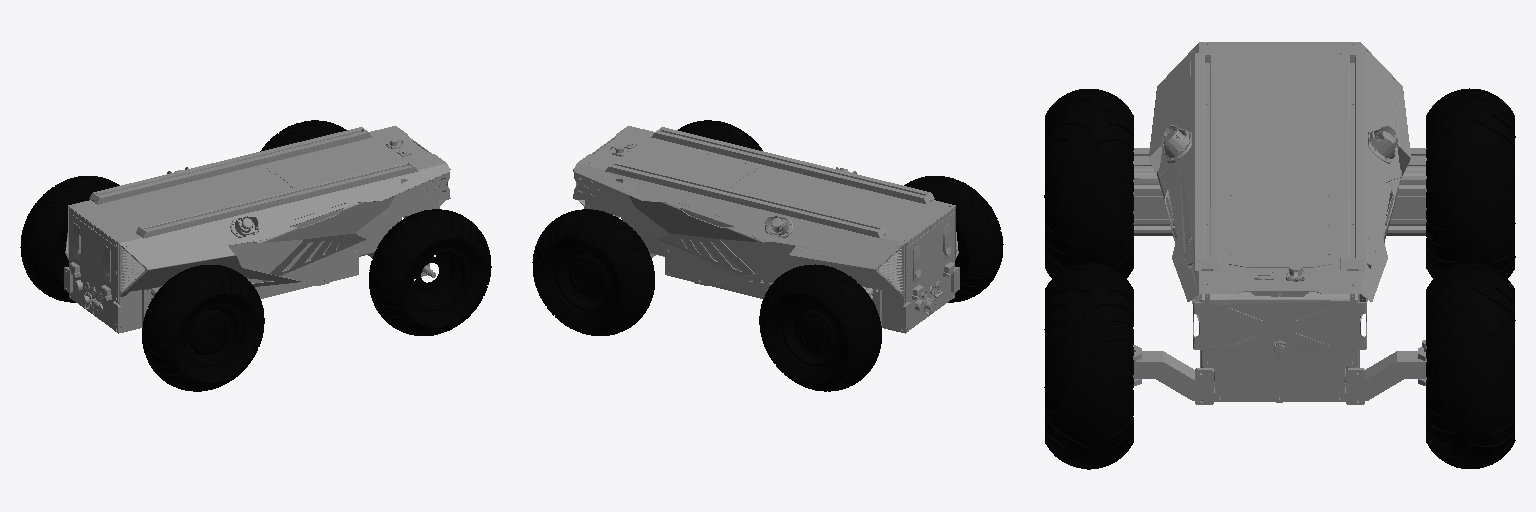
robot.urdf — hunter:
<?xml version="1.0" ?>
<robot name="hunter">

  <!-- ===== Base and Chassis ===== -->
  <link name="base_link"/>
  <joint name="chassis_joint" type="fixed">
    <parent link="base_link"/>
    <child link="chassis"/>
    <origin rpy="0 0 0" xyz="0 0 0.37"/>
  </joint>

  <link name="chassis">
    <visual>
      <geometry>
        <mesh filename="package://hunter_model/meshes/chassis.dae"/>
      </geometry>
      <material name="body_gray">
        <color rgba="0.6 0.6 0.6 1.0"/>
      </material>
    </visual>
    <collision>
      <geometry>
        <mesh filename="package://hunter_model/meshes/chassis.dae"/>
      </geometry>
    </collision>
    <inertial>
      <origin xyz="0 0 0"/>
      <mass value="80"/>
      <inertia ixx="2.0" ixy="0" ixz="0" iyy="2.0" iyz="0" izz="2.0"/>
    </inertial>
  </link>

  <!-- ===== Rear Wheels ===== -->
  <link name="rear_left_wheel">
    <visual>
      <geometry>
        <mesh filename="package://hunter_model/meshes/rear_left_wheel.dae"/>
      </geometry>
      <material name="black_wheel">
        <color rgba="0.05 0.05 0.05 1.0"/>
      </material>
    </visual>
    <collision>
      <geometry>
        <mesh filename="package://hunter_model/meshes/rear_left_wheel.dae"/>
      </geometry>
    </collision>
    <inertial><mass value="7"/><inertia ixx="0.06" iyy="0.06" izz="0.11"/></inertial>
  </link>

  <joint name="rear_left_wheel_joint" type="continuous">
    <parent link="chassis"/>
    <child link="rear_left_wheel"/>
    <origin rpy="1.5708 0 0" xyz="-0.28 0.2925 -0.19558"/>
    <axis xyz="0 0 -1"/>
    <dynamics damping="0.1" friction="2.0"/>
    <limit effort="50.0" velocity="50.0"/>
  </joint>

  <link name="rear_right_wheel">
    <visual>
      <geometry>
        <mesh filename="package://hunter_model/meshes/rear_right_wheel.dae"/>
      </geometry>
      <material name="black_wheel">
        <color rgba="0.05 0.05 0.05 1.0"/>
      </material>
    </visual>
    <collision>
      <geometry>
        <mesh filename="package://hunter_model/meshes/rear_right_wheel.dae"/>
      </geometry>
    </collision>
    <inertial><mass value="7"/><inertia ixx="0.06" iyy="0.06" izz="0.11"/></inertial>
  </link>

  <joint name="rear_right_wheel_joint" type="continuous">
    <parent link="chassis"/>
    <child link="rear_right_wheel"/>
    <origin rpy="1.5708 0 0" xyz="-0.28 -0.2925 -0.19558"/>
    <axis xyz="0 0 -1"/>
    <dynamics damping="0.1" friction="2.0"/>
    <limit effort="50.0" velocity="50.0"/>
  </joint>

  <!-- ===== Front Steering + Wheels ===== -->
  <link name="front_left_steering_link">
    <inertial><mass value="0.01"/><inertia ixx="0.01" iyy="0.01" izz="0.01"/></inertial>
  </link>

  <joint name="front_left_steering_joint" type="continuous">
    <parent link="chassis"/>
    <child link="front_left_steering_link"/>
    <origin rpy="1.5708 0 0" xyz="0.37142 0.2925 -0.19558"/>
    <axis xyz="0 1 0"/>
    <limit effort="20.0" velocity="5.0"/>
    <dynamics damping="0.1" friction="0.2"/>
  </joint>

  <link name="front_left_wheel">
    <visual>
      <geometry>
        <mesh filename="package://hunter_model/meshes/front_left_wheel.dae"/>
      </geometry>
      <material name="black_wheel">
        <color rgba="0.05 0.05 0.05 1.0"/>
      </material>
    </visual>
    <collision>
      <geometry>
        <mesh filename="package://hunter_model/meshes/front_left_wheel.dae"/>
      </geometry>
    </collision>
    <inertial><mass value="7"/><inertia ixx="0.06" iyy="0.06" izz="0.11"/></inertial>
  </link>

  <joint name="front_left_wheel_joint" type="continuous">
    <parent link="front_left_steering_link"/>
    <child link="front_left_wheel"/>
    <origin rpy="0 0 0" xyz="0 0 0"/>
    <axis xyz="0 0 -1"/>
    <limit effort="50.0" velocity="50.0"/>
  </joint>

  <link name="front_right_steering_link">
    <inertial><mass value="0.01"/><inertia ixx="0.01" iyy="0.01" izz="0.01"/></inertial>
  </link>

  <joint name="front_right_steering_joint" type="continuous">
    <parent link="chassis"/>
    <child link="front_right_steering_link"/>
    <origin rpy="1.5708 0 0" xyz="0.37142 -0.2925 -0.19558"/>
    <axis xyz="0 1 0"/>
    <limit effort="20.0" velocity="5.0"/>
    <dynamics damping="0.1" friction="0.2"/>
  </joint>

  <link name="front_right_wheel">
    <visual>
      <geometry>
        <mesh filename="package://hunter_model/meshes/front_right_wheel.dae"/>
      </geometry>
      <material name="black_wheel">
        <color rgba="0.05 0.05 0.05 1.0"/>
      </material>
    </visual>
    <collision>
      <geometry>
        <mesh filename="package://hunter_model/meshes/front_right_wheel.dae"/>
      </geometry>
    </collision>
    <inertial><mass value="7"/><inertia ixx="0.06" iyy="0.06" izz="0.11"/></inertial>
  </link>

  <joint name="front_right_wheel_joint" type="continuous">
    <parent link="front_right_steering_link"/>
    <child link="front_right_wheel"/>
    <origin rpy="0 0 0" xyz="0 0 0"/>
    <axis xyz="0 0 -1"/>
    <limit effort="50.0" velocity="50.0"/>
  </joint>

</robot>

--- What the picture shows (computed from the rendered views, not written in the file) ---
Views: 3 orthographic renders of the robot side by side, from view 1: azimuth 30°, elevation 25°; view 2: azimuth 150°, elevation 25°; view 3: azimuth 270°, elevation 25°.
Model hunter with 8 links and 7 joints (6 continuous, 1 fixed), rooted at base_link, posed every joint at zero.
Visible links, largest first — view 1: chassis, rear_right_wheel, front_right_wheel, rear_left_wheel, front_left_wheel; view 2: chassis, rear_left_wheel, front_left_wheel, rear_right_wheel, front_right_wheel; view 3: chassis, front_left_wheel, front_right_wheel, rear_right_wheel, rear_left_wheel.
Boxes of the visible links, left/top/right/bottom form: chassis: left=64, top=126, right=450, bottom=333; rear_right_wheel: left=142, top=265, right=264, bottom=391; front_right_wheel: left=369, top=209, right=491, bottom=335; rear_left_wheel: left=20, top=176, right=119, bottom=302; front_left_wheel: left=260, top=120, right=346, bottom=151; chassis: left=573, top=126, right=959, bottom=333; rear_left_wheel: left=759, top=264, right=881, bottom=391; front_left_wheel: left=532, top=209, right=654, bottom=335; rear_right_wheel: left=904, top=176, right=1003, bottom=302; front_right_wheel: left=678, top=120, right=762, bottom=150; chassis: left=1133, top=42, right=1426, bottom=404; front_left_wheel: left=1426, top=262, right=1515, bottom=468; front_right_wheel: left=1044, top=262, right=1133, bottom=469; rear_right_wheel: left=1044, top=89, right=1133, bottom=278; rear_left_wheel: left=1426, top=88, right=1515, bottom=278.
Bounding box of the posed robot: 0.9799 × 0.746 × 0.3768 m (x, y, z).
Meshes: 5 distinct files referenced, 5 mesh visuals loaded (5 Collada DAE).
